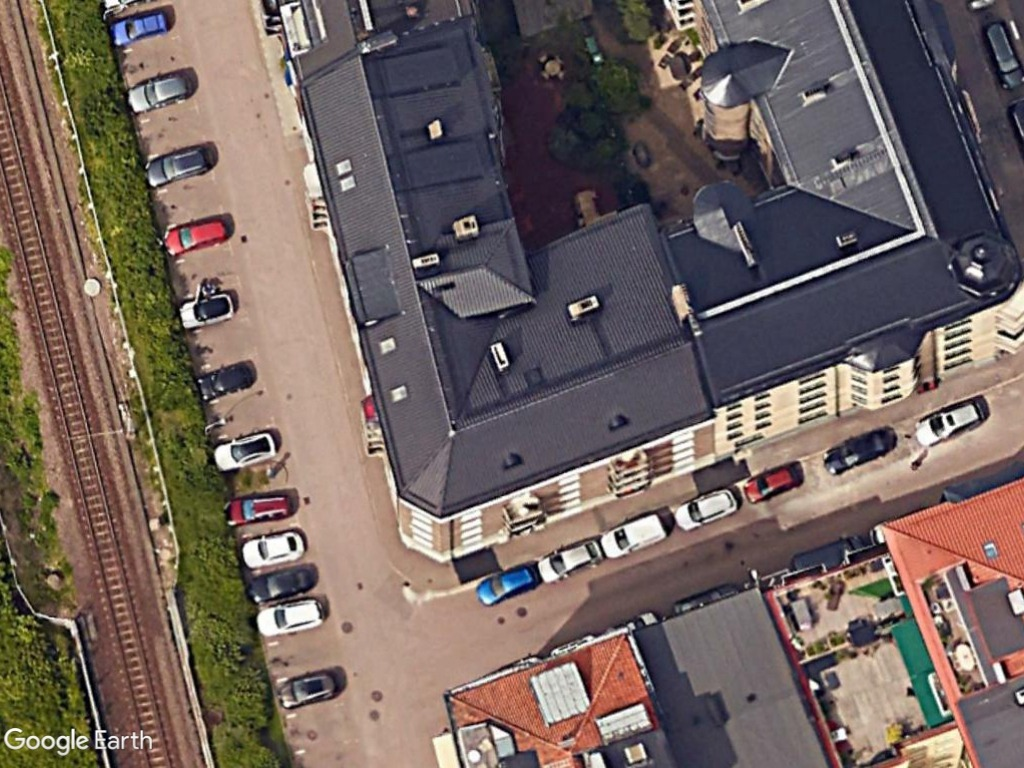car: (909, 397, 987, 451), (253, 591, 328, 642), (598, 509, 671, 561), (160, 211, 234, 261), (671, 483, 743, 534), (245, 561, 321, 608), (534, 537, 605, 586), (210, 428, 282, 475), (143, 142, 216, 188), (238, 525, 311, 571), (222, 489, 300, 532), (475, 559, 543, 608), (125, 69, 194, 115), (175, 286, 240, 334), (195, 359, 258, 408), (105, 6, 175, 49), (275, 668, 342, 712), (744, 461, 803, 508)
